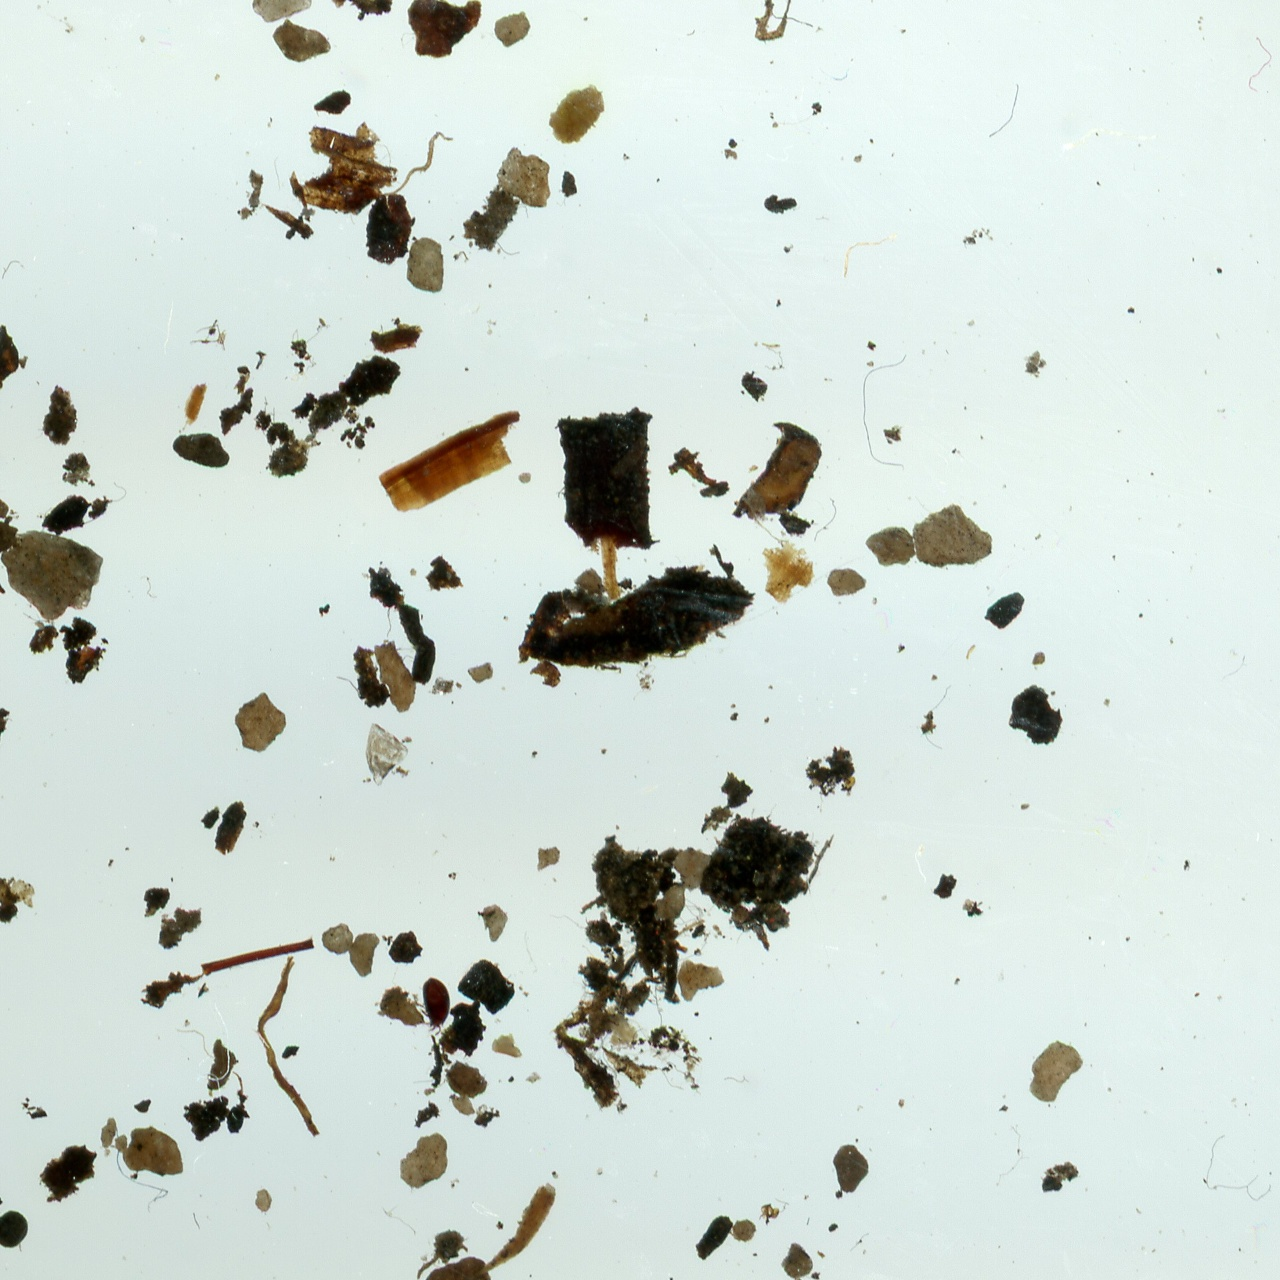arthropod: (415, 974, 452, 1038)
